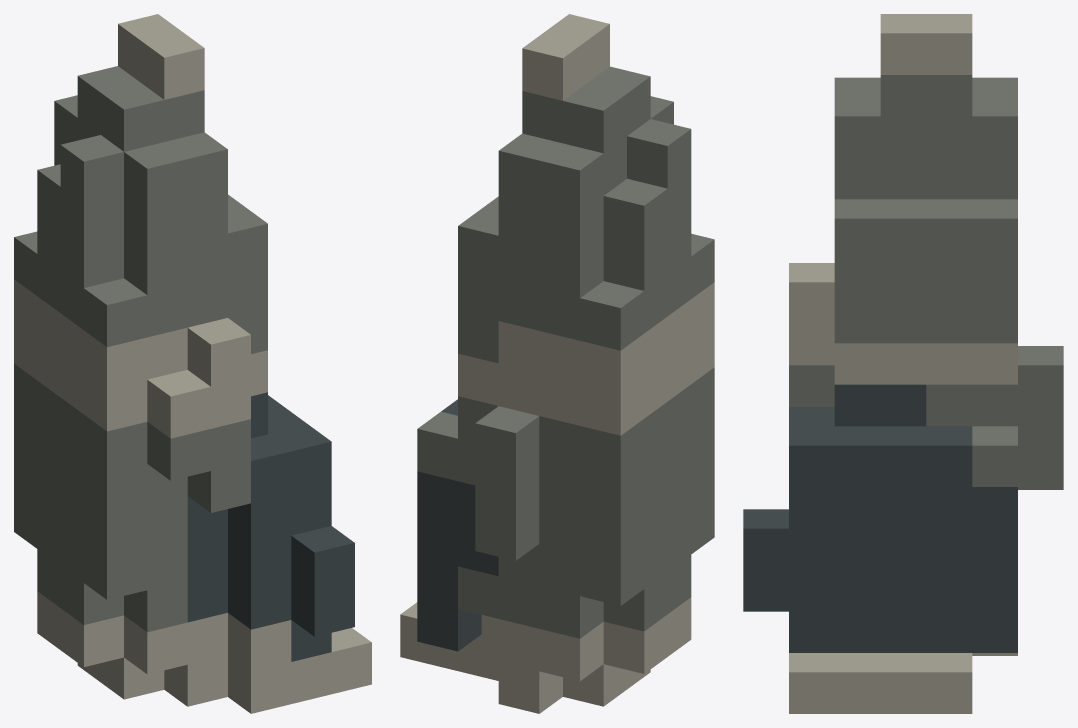
Rendered from layered_rock_v2_species1_mid.glb.
3 views of the same model, side by side, from view 1: azimuth 30°, elevation 25°; view 2: azimuth 150°, elevation 25°; view 3: azimuth 270°, elevation 25° (orthographic). The views are drawn at different scales.
Parts seen in each view (by area): view 1: layered_rock_v2_species1_mid; view 2: layered_rock_v2_species1_mid; view 3: layered_rock_v2_species1_mid.
Boxes of the visible parts, <box> form: layered_rock_v2_species1_mid: <box>14,14,371,713</box>; layered_rock_v2_species1_mid: <box>400,14,714,713</box>; layered_rock_v2_species1_mid: <box>743,14,1063,713</box>.
Bounding box in the file's own units: 1.5 × 3.75 × 1.75.
Materials: 1 (1 with a texture image).
